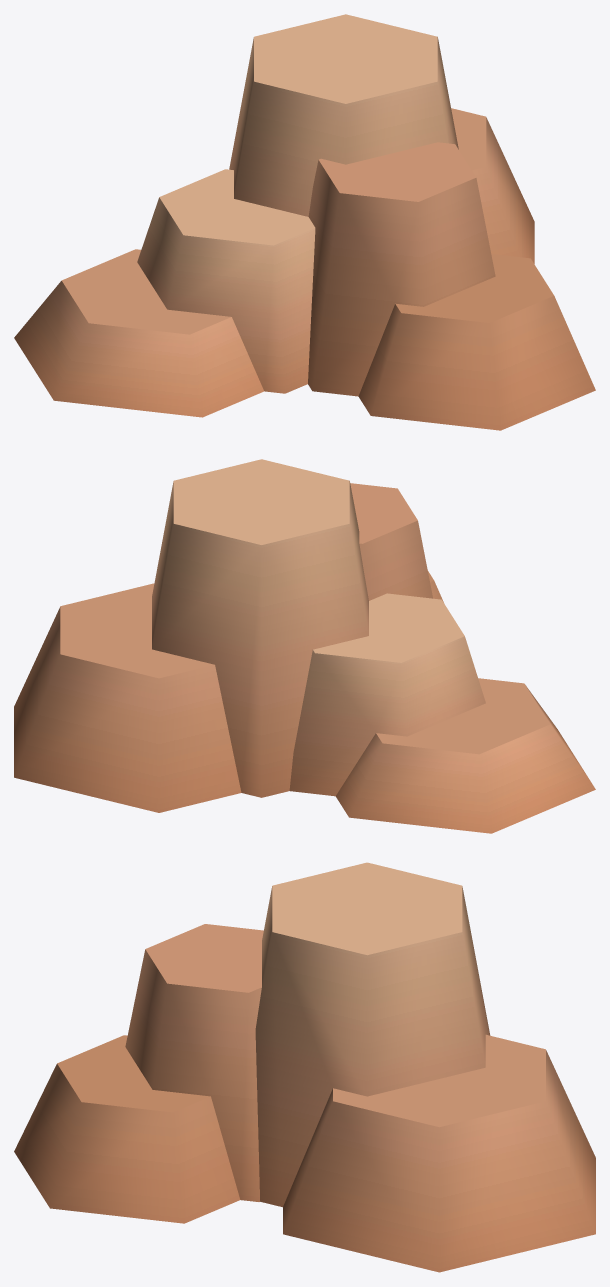
The model's file is resource-stone-large.glb.
The picture shows the model from 3 angles, top to bottom: view 1: azimuth 30°, elevation 25°; view 2: azimuth 150°, elevation 25°; view 3: azimuth 270°, elevation 25°; orthographic projection. The views are drawn at different scales.
Parts seen in each view (by area): view 1: resource-stone-large; view 2: resource-stone-large; view 3: resource-stone-large.
Boxes of the visible parts, x1,y1,x2,y2 form: resource-stone-large: (14, 14, 595, 430); resource-stone-large: (14, 459, 595, 833); resource-stone-large: (14, 862, 595, 1272).
Bounding box in the file's own units: 0.376 × 0.1602 × 0.3369.
Materials: 1 (1 with a texture image).
